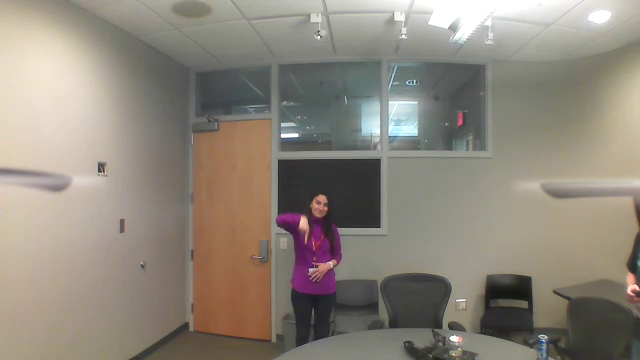down: (292, 209, 310, 247)
